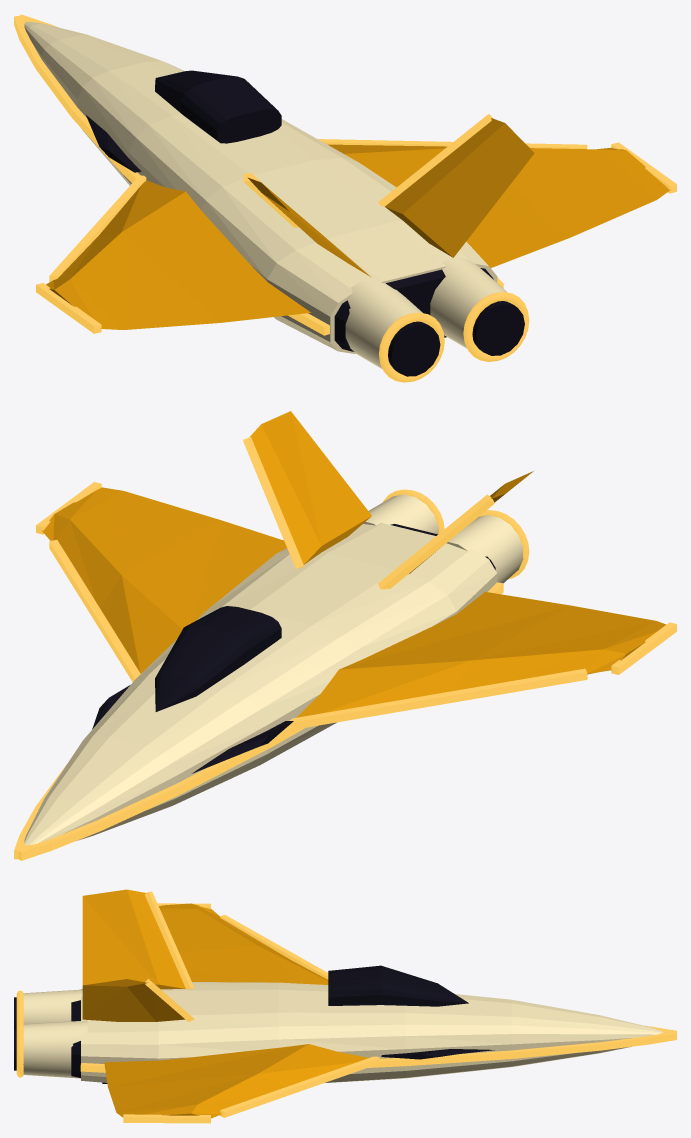
Rendered from player_gold.glb.
3 renders of one model, top to bottom at view 1: azimuth 30°, elevation 25°; view 2: azimuth 150°, elevation 25°; view 3: azimuth 270°, elevation 25°, orthographic. The views are drawn at different scales.
Visible parts, largest first — view 1: fuselage, wing_port, wing_starboard, tail_fin_starboard, canopy_recess, nozzle_housing_port, nozzle_housing_starboard, nozzle_throat_port, nozzle_throat_starboard, aft_plate, nozzle_trim_port, nozzle_trim_starboard (+7 smaller); view 2: fuselage, wing_starboard, wing_port, tail_fin_starboard, canopy_recess, wing_edge_trim_port, nozzle_housing_port, wing_edge_trim_starboard, nozzle_housing_starboard, tail_fin_trim_port, tail_fin_trim_starboard, hull_trim_port_3 (+3 smaller); view 3: fuselage, wing_starboard, tail_fin_port, wing_port, canopy_recess, tail_fin_starboard, nozzle_housing_starboard, nozzle_housing_port, wing_edge_trim_starboard, tail_fin_trim_port, hull_trim_starboard_4, wing_edge_trim_port (+7 smaller).
Boxes of the visible parts, x1,y1,x2,y2 form: fuselage: (24, 22, 497, 353); wing_port: (46, 180, 310, 329); wing_starboard: (328, 144, 670, 267); tail_fin_starboard: (385, 118, 534, 257); canopy_recess: (155, 70, 281, 143); nozzle_housing_port: (345, 278, 425, 368); nozzle_housing_starboard: (430, 257, 511, 348); nozzle_throat_port: (388, 321, 440, 376); nozzle_throat_starboard: (472, 301, 524, 355); aft_plate: (334, 268, 493, 351); nozzle_trim_port: (379, 312, 444, 382); nozzle_trim_starboard: (463, 292, 529, 361); fuselage: (24, 523, 497, 845); wing_starboard: (41, 487, 286, 673); wing_port: (296, 592, 666, 717); tail_fin_starboard: (250, 411, 371, 564); canopy_recess: (155, 606, 281, 711); wing_edge_trim_port: (289, 668, 587, 729); nozzle_housing_port: (446, 515, 523, 583); wing_edge_trim_starboard: (49, 540, 140, 681); nozzle_housing_starboard: (363, 494, 438, 534); tail_fin_trim_port: (378, 494, 494, 589); tail_fin_trim_starboard: (243, 437, 304, 568); hull_trim_port_3: (97, 783, 182, 830); fuselage: (81, 982, 663, 1083); wing_starboard: (104, 1044, 368, 1118); tail_fin_port: (82, 889, 185, 989); wing_port: (159, 903, 328, 984); canopy_recess: (328, 965, 468, 1006); tail_fin_starboard: (82, 979, 185, 1021); nozzle_housing_starboard: (23, 1020, 87, 1078); nozzle_housing_port: (23, 989, 82, 1024); wing_edge_trim_starboard: (219, 1056, 380, 1117); tail_fin_trim_port: (144, 891, 194, 989); hull_trim_starboard_4: (406, 1050, 512, 1065); wing_edge_trim_port: (220, 914, 328, 979).
Bounding box in the file's own units: 7.17 × 2.19 × 9.39.
